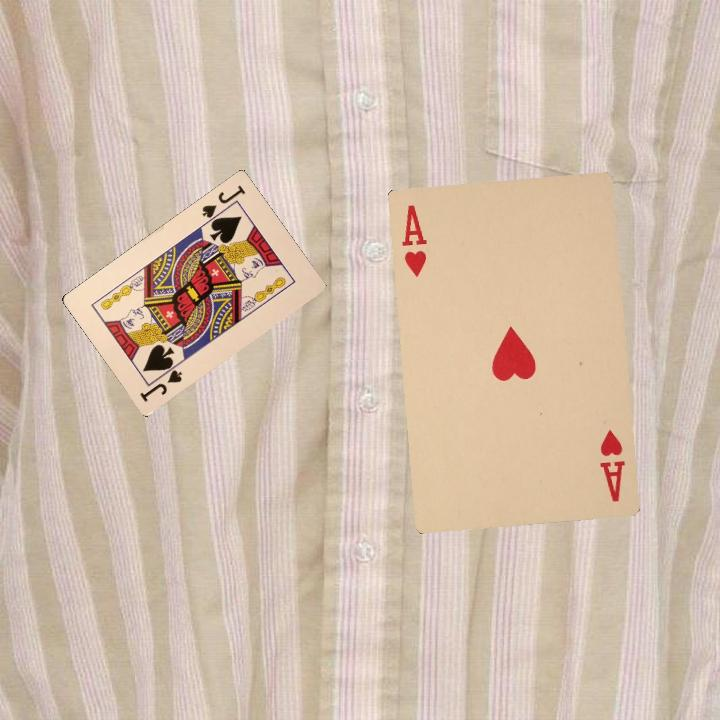Ah: (596, 426, 628, 505), (397, 200, 429, 279)
Js: (136, 359, 185, 404), (198, 181, 248, 225)
